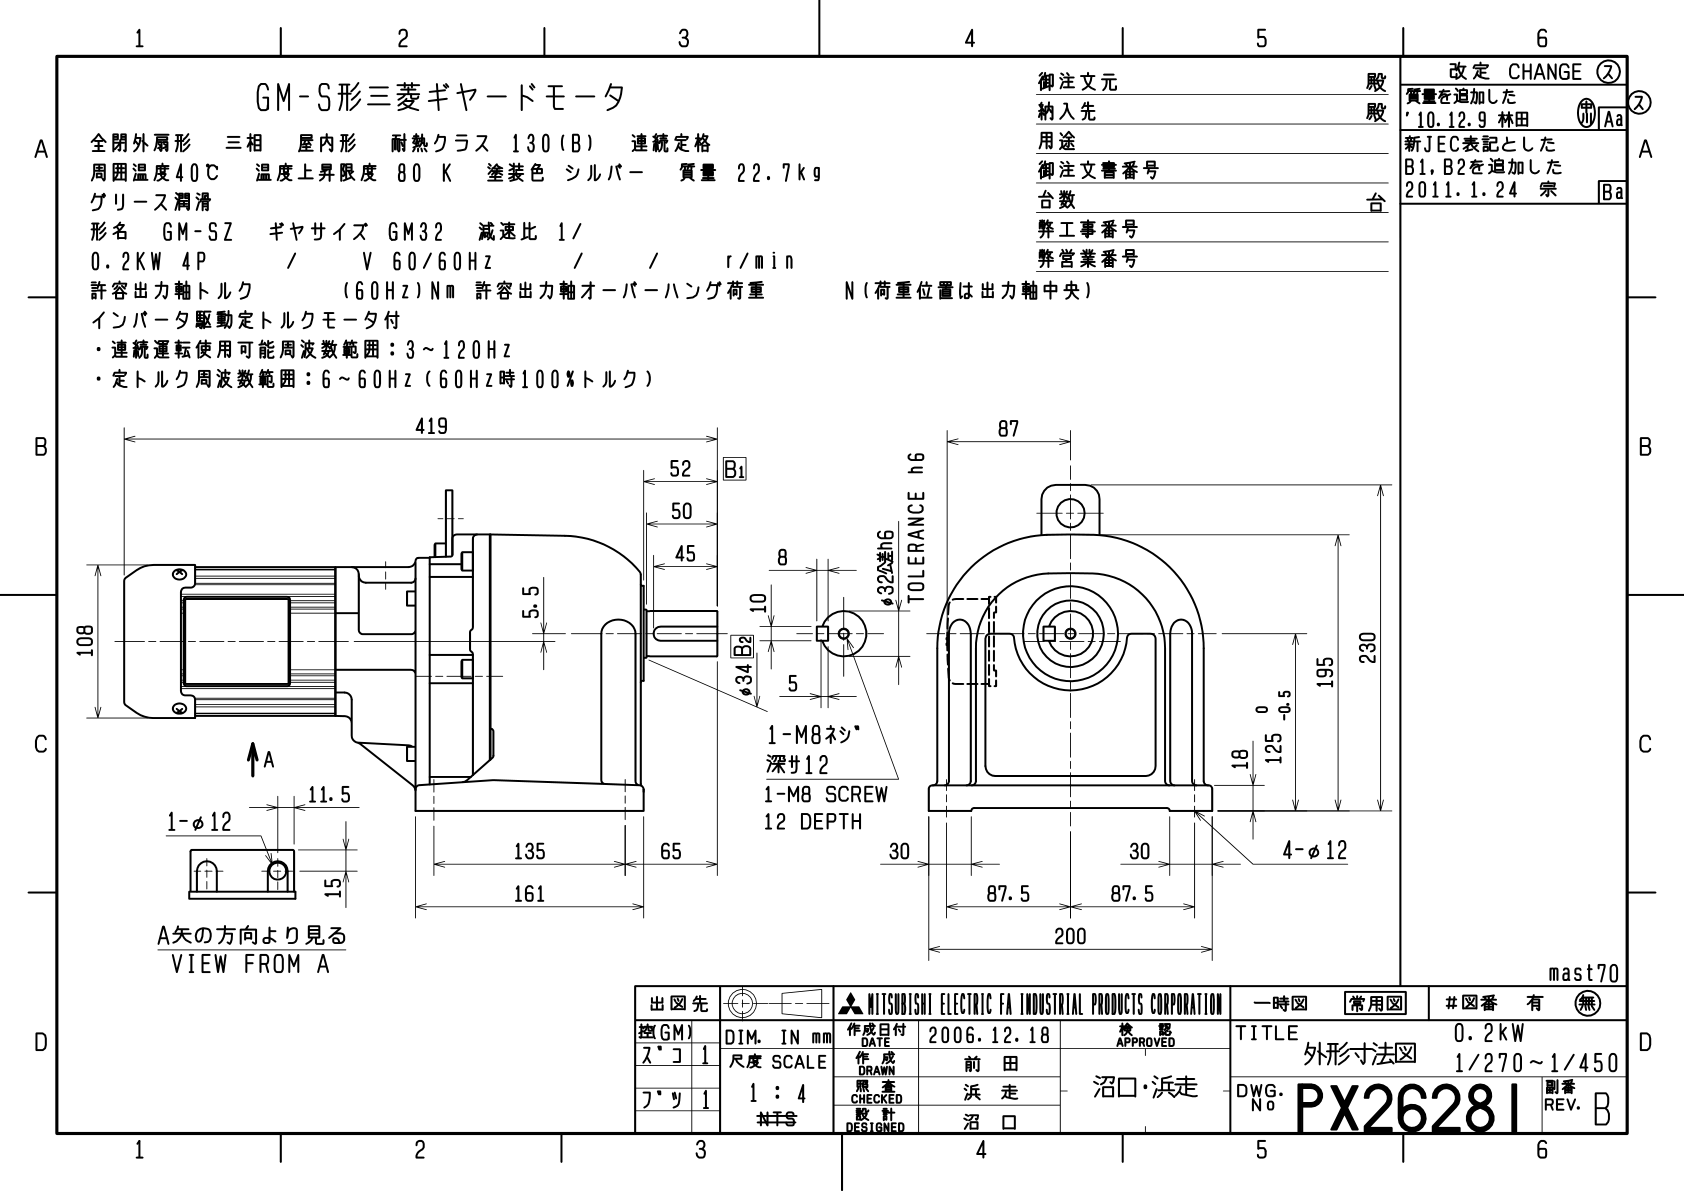GM_S_インバタ屋内＿三相_脚: (6, 5, 1684, 1191)
